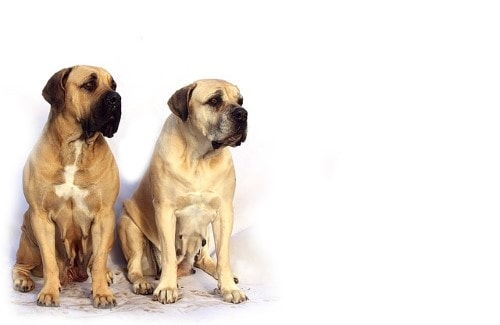mastiff: (117, 79, 248, 305), (11, 64, 121, 310)
